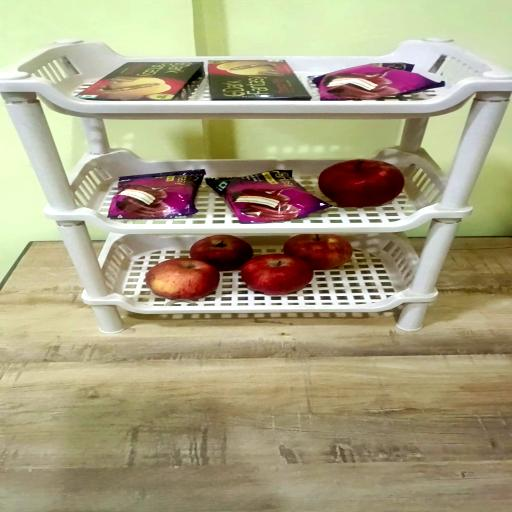Apple: (319, 162, 404, 210), (148, 258, 222, 301), (242, 255, 314, 297), (284, 233, 353, 269), (189, 234, 253, 270)
Choco Fills: (76, 62, 203, 101), (210, 59, 312, 100)
Choco Pie: (208, 173, 330, 225), (311, 62, 445, 100), (107, 172, 203, 221)
